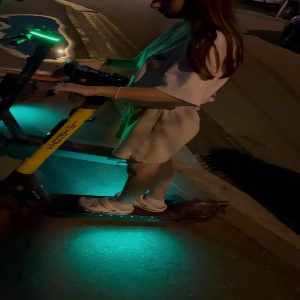human on a scooter: (1, 1, 246, 225)
